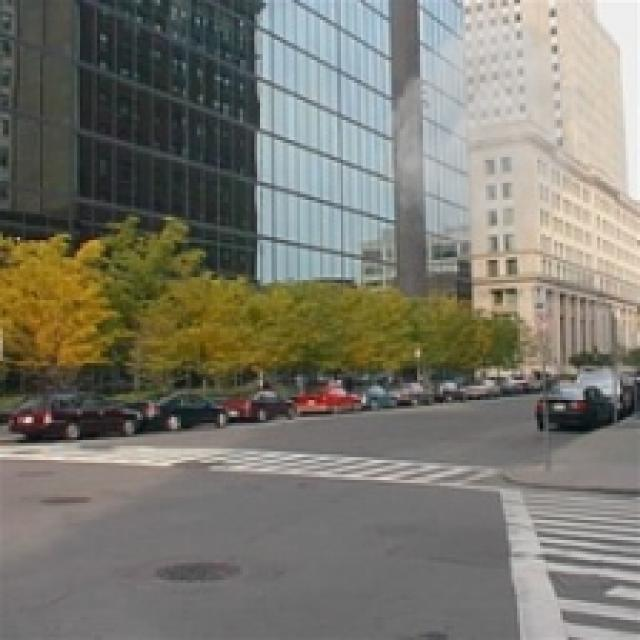smoke: (374, 12, 589, 252)
